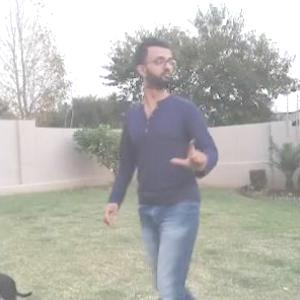land_hand: (168, 138, 210, 180)
